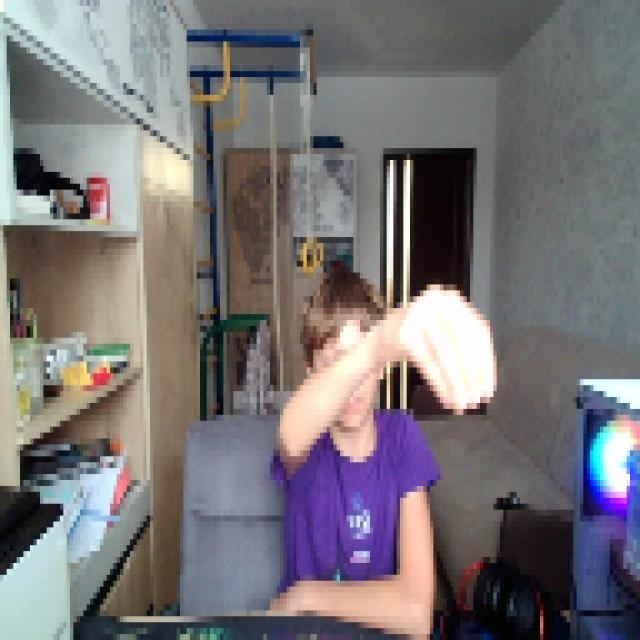left_click: (393, 272, 497, 409)
